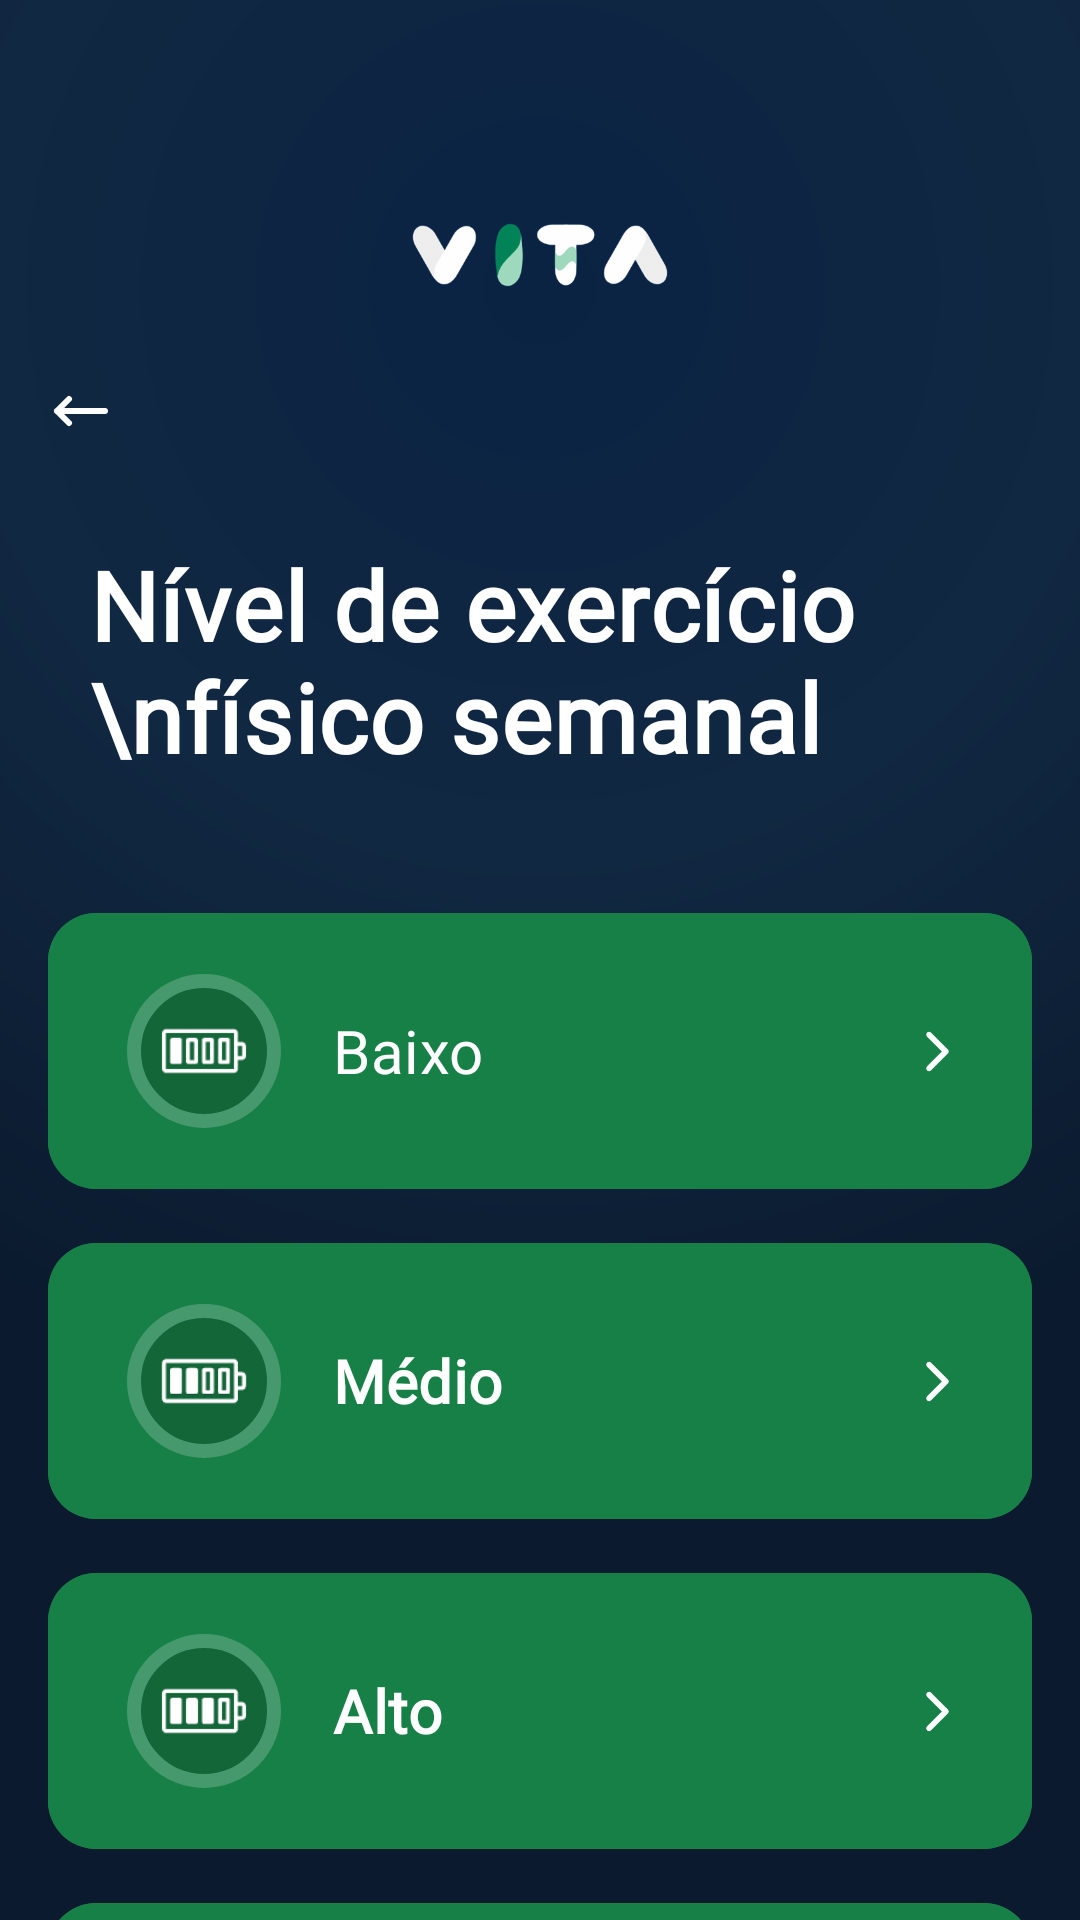

Where icons sit on this 1080px x 1920px app screen, as (x1, y1, x2, y2):
arrow: (54, 396, 108, 426)
next: (926, 1031, 949, 1072), (926, 1361, 949, 1402), (926, 1691, 949, 1732)
